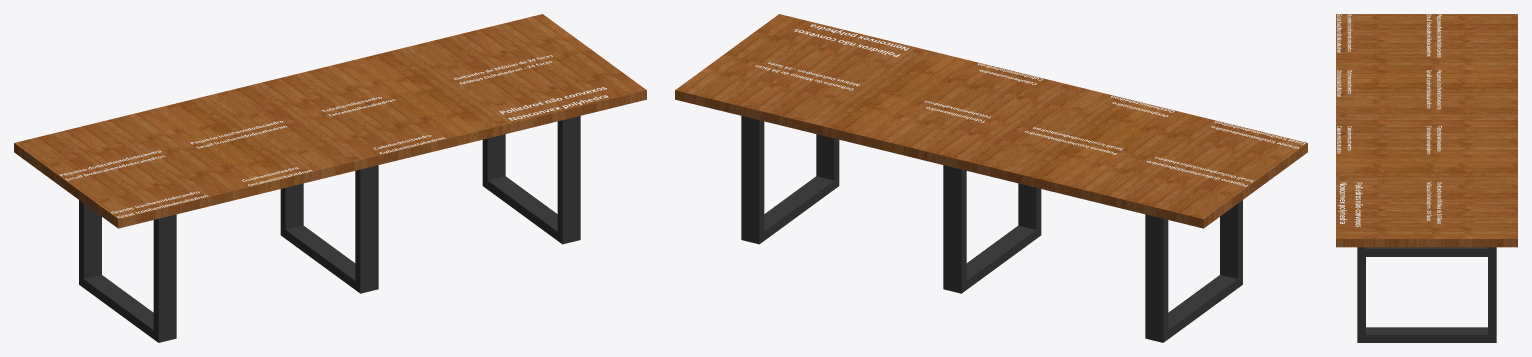
File: mesa_nonConvex4.glb
The picture shows the model from 3 angles, left to right: view 1: azimuth 30°, elevation 25°; view 2: azimuth 150°, elevation 25°; view 3: azimuth 270°, elevation 25°; orthographic projection. The views are drawn at different scales.
Parts seen in each view (by area): view 1: object 1, Composant#1 (×3), Poliedros não co#1; view 2: object 1, Composant#1 (×3), Poliedros não co#1; view 3: object 1, Composant#1 (×2), Poliedros não co#1, Pequeno dodecahe#1, Deltaedro de Möb, Pequeno icosihem, Grande icosihemi, Tetrahemihexaedr, Cubohemioctaedro, Octahemioctaedro.
Part boxes in pixels (x1,y1,x2,y2): object 1: (14, 14, 646, 228); Composant#1 (×3): (79, 116, 580, 342); Poliedros não co#1: (499, 87, 608, 120); object 1: (675, 14, 1307, 228); Composant#1 (×3): (741, 116, 1242, 342); Poliedros não co#1: (794, 24, 909, 57); object 1: (1336, 14, 1517, 247); Composant#1 (×2): (1357, 247, 1496, 342); Poliedros não co#1: (1338, 182, 1362, 226); Pequeno dodecahe#1: (1426, 14, 1441, 57); Deltaedro de Möb: (1426, 182, 1442, 223); Pequeno icosihem: (1426, 70, 1441, 109); Grande icosihemi: (1337, 14, 1352, 52); Tetrahemihexaedr: (1426, 126, 1441, 154); Cubohemioctaedro: (1337, 126, 1352, 153); Octahemioctaedro: (1337, 70, 1352, 96).
Size of the model in its own units: 2.93 by 0.7711 by 1.
3 materials, 1 textured.
